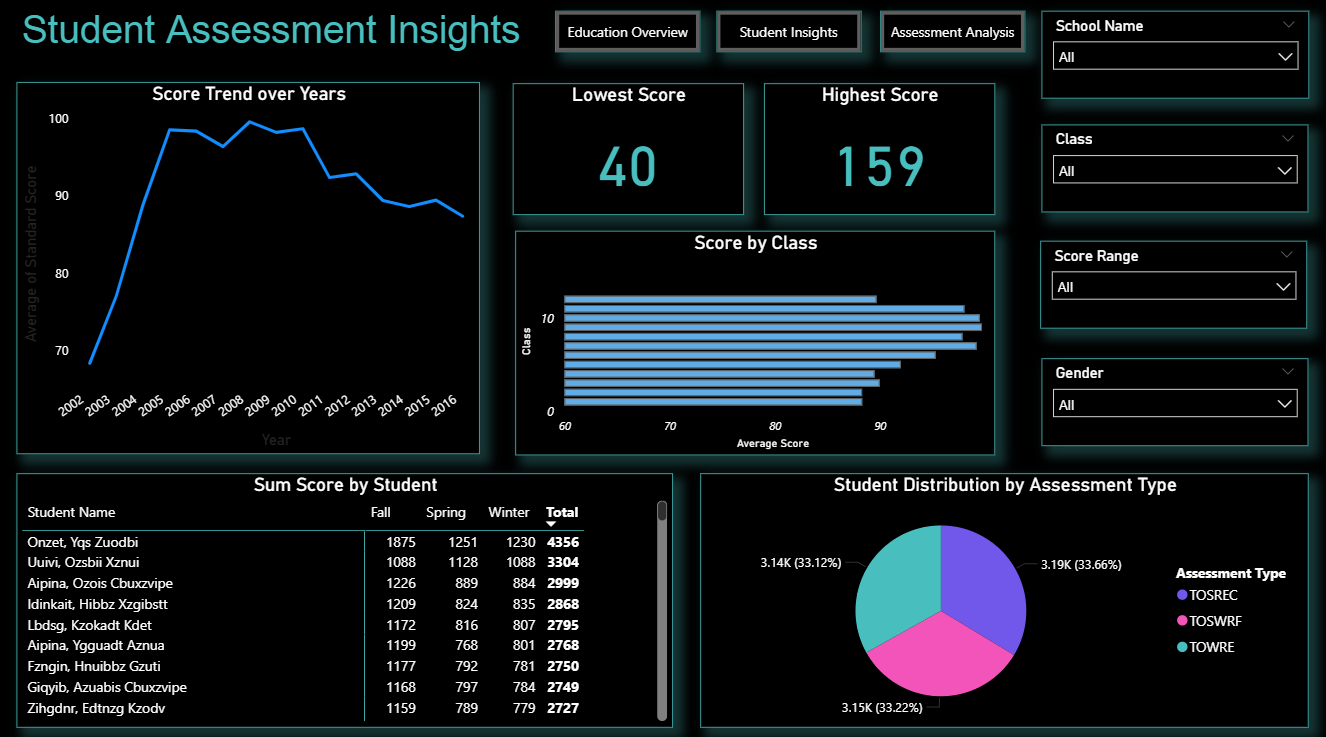

Layout of this report page (visuals, bound fields, positions):
{"tool":"powerbi","page":{"name":"Student Insights","canvas":[1280,720],"ordinal":1},"visuals":[{"type":"actionButton","box":[537.1,12.9,140,40],"z":0},{"type":"actionButton","box":[692.9,12.9,140,40],"z":1000},{"type":"actionButton","box":[850,12.9,140,40],"z":2000},{"type":"card","title":"Lowest Score","fields":{"Values":["Min(Tests.Standard Score)"]},"box":[495.7,82.9,222.9,127.1],"z":3000},{"type":"card","title":"Highest Score","fields":{"Values":["Max(Tests.Standard Score)"]},"box":[738.6,82.9,222.9,127.1],"z":4000},{"type":"clusteredBarChart","title":"Score by Class","fields":{"Category":["Tests.School Year / Grade / Class"],"Y":["Avg(Tests.Standard Score)"]},"box":[498.6,225.7,462.9,217.1],"z":5000},{"type":"lineChart","title":"Score Trend over Years","fields":{"Category":["Students.Date of Birth.Variation.Date Hierarchy.Year"],"Y":["Avg(Tests.Standard Score)"]},"box":[16.5,82.3,447.3,359.5],"z":6000},{"type":"pivotTable","title":"Sum Score by Student","fields":{"Rows":["Students.Student Name"],"Columns":["Tests.Semester"],"Values":["Sum(Tests.Standard Score)"]},"box":[16.5,459.7,634,245.6],"z":7000},{"type":"textbox","box":[17.1,0,502.9,65.7],"z":8000},{"type":"slicer","fields":{"Values":["Schools.School Name"]},"box":[1005.7,12.9,258.6,85],"z":9000},{"type":"slicer","fields":{"Values":["Tests.School Year / Grade / Class"]},"box":[1005.8,123.5,258,85],"z":10000},{"type":"slicer","fields":{"Values":["Grading_Groups.Score Range"]},"box":[1005,235,258,85.1],"z":11000},{"type":"slicer","fields":{"Values":["Students.Gender"]},"box":[1005.8,349,258,85],"z":12000},{"type":"pieChart","title":"Student Distribution by Assessment Type","fields":{"Category":["Tests.Assessment Type"],"Y":["Count(Tests.Student ID)"]},"box":[676.5,459.7,587.3,245.6],"z":13000}]}

Visuals, with their boxes in screenshot pixels (x1, y1, x2, y2), scaled from the page's 1280x720 canvas onto the 1326x737 screenshot:
actionButton: <bbox>556, 13, 701, 54</bbox>
actionButton: <bbox>718, 13, 863, 54</bbox>
actionButton: <bbox>881, 13, 1026, 54</bbox>
"Lowest Score" card: <bbox>514, 85, 744, 215</bbox>
"Highest Score" card: <bbox>765, 85, 996, 215</bbox>
"Score by Class" clusteredBarChart: <bbox>517, 231, 996, 453</bbox>
"Score Trend over Years" lineChart: <bbox>17, 84, 480, 452</bbox>
"Sum Score by Student" pivotTable: <bbox>17, 471, 674, 722</bbox>
textbox: <bbox>18, 0, 539, 67</bbox>
slicer - Schools.School Name: <bbox>1042, 13, 1310, 100</bbox>
slicer - Tests.School Year / Grade / Class: <bbox>1042, 126, 1309, 213</bbox>
slicer - Grading_Groups.Score Range: <bbox>1041, 241, 1308, 328</bbox>
slicer - Students.Gender: <bbox>1042, 357, 1309, 444</bbox>
"Student Distribution by Assessment Type" pieChart: <bbox>701, 471, 1309, 722</bbox>
